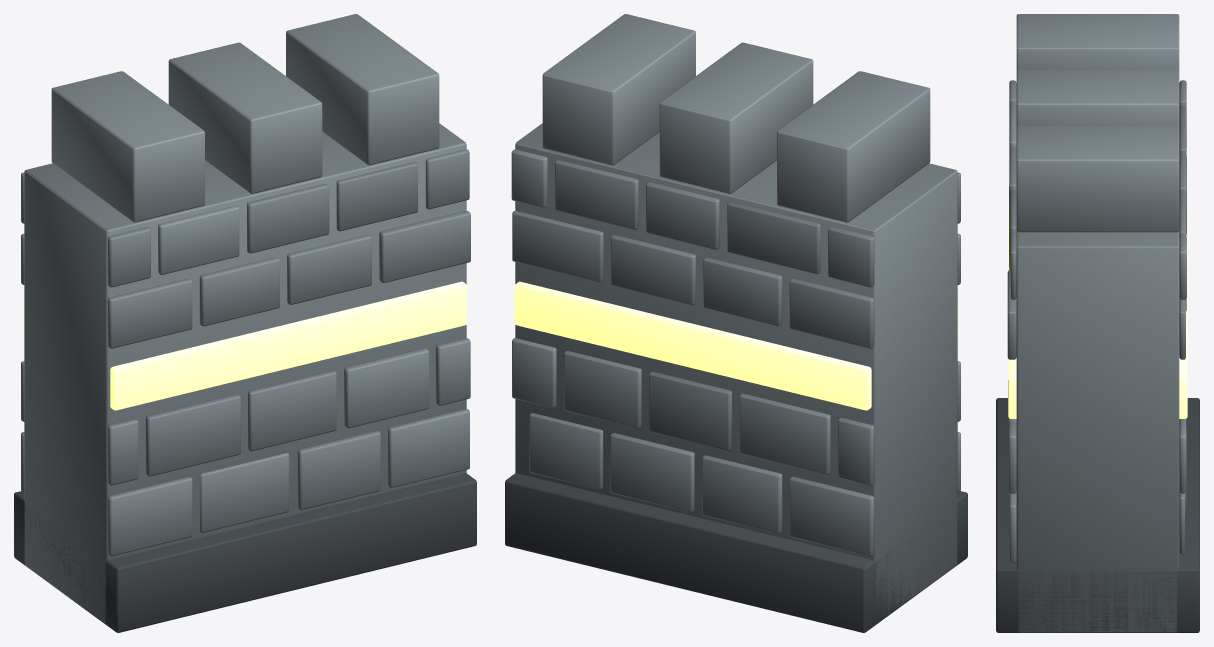
The model's file is castle_wall_b.glb.
3 renders of one model, left to right at view 1: azimuth 30°, elevation 25°; view 2: azimuth 150°, elevation 25°; view 3: azimuth 270°, elevation 25°, orthographic. The views are drawn at different scales.
Visible parts, largest first — view 1: castle_wall_b; view 2: castle_wall_b; view 3: castle_wall_b.
Part boxes in pixels (bbox=[...]): castle_wall_b: bbox=[14, 14, 476, 632]; castle_wall_b: bbox=[505, 14, 967, 632]; castle_wall_b: bbox=[996, 14, 1199, 632].
Bounding box in the file's own units: 2 × 2.5 × 1.
Materials: 2 (1 with a texture image).
